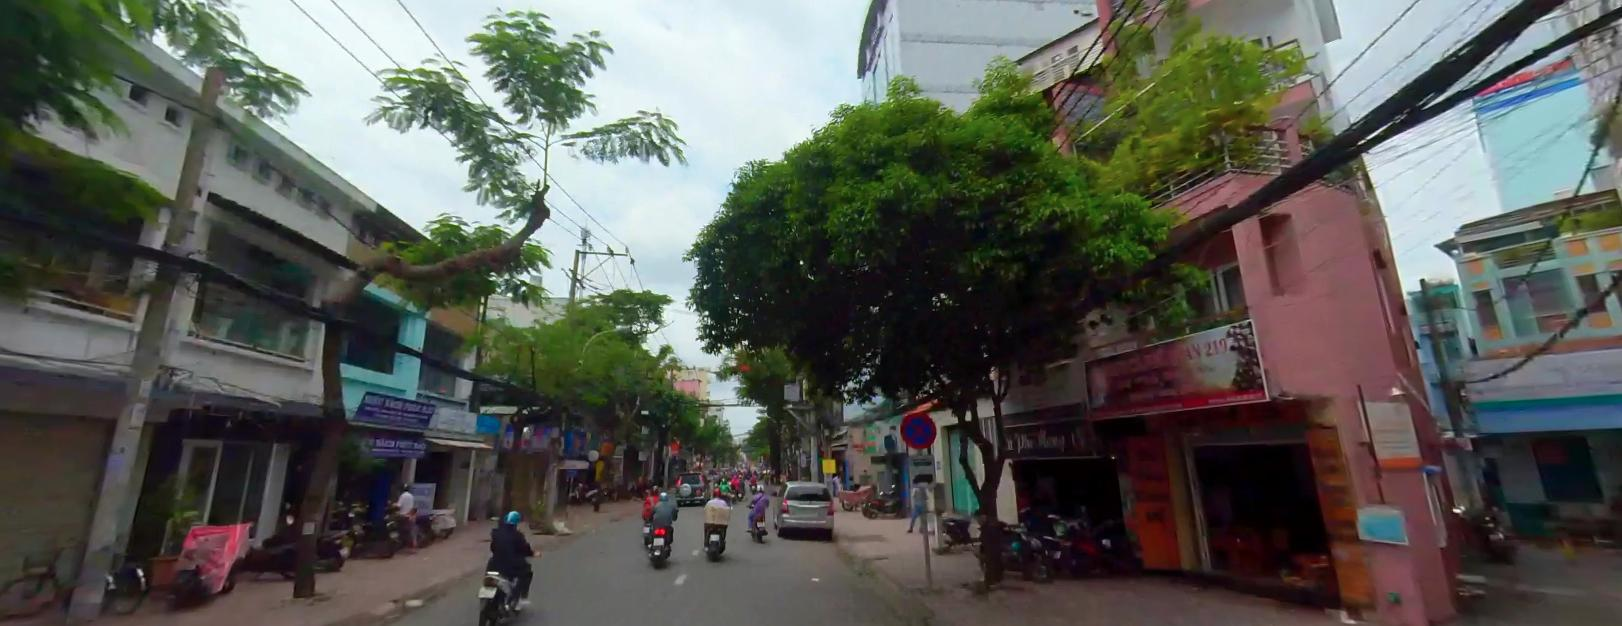Cam dung va do: (900, 411, 937, 448)
